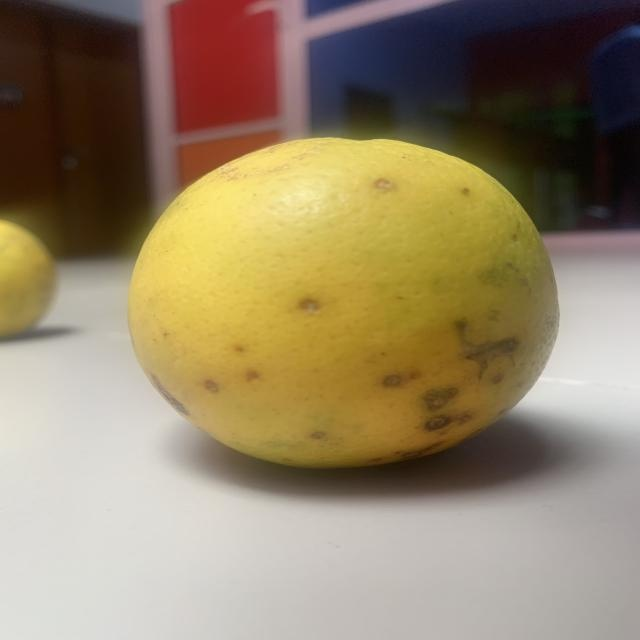agrume: (116, 127, 568, 483)
